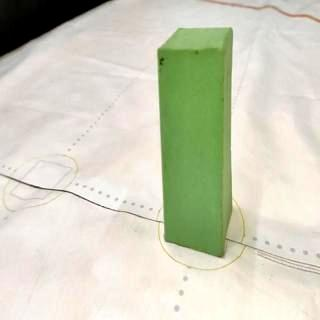greenbox: (157, 27, 235, 255)
